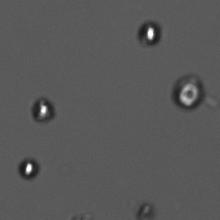Living Cell: (172, 73, 206, 111), (30, 96, 56, 123), (137, 20, 162, 47), (18, 157, 41, 180)
